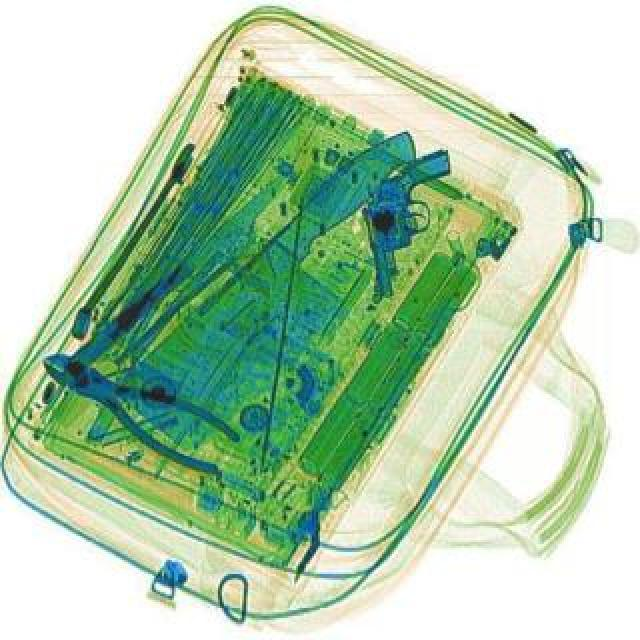gun: (354, 152, 466, 304)
knife: (112, 120, 468, 464)
wrench: (24, 340, 244, 484)
